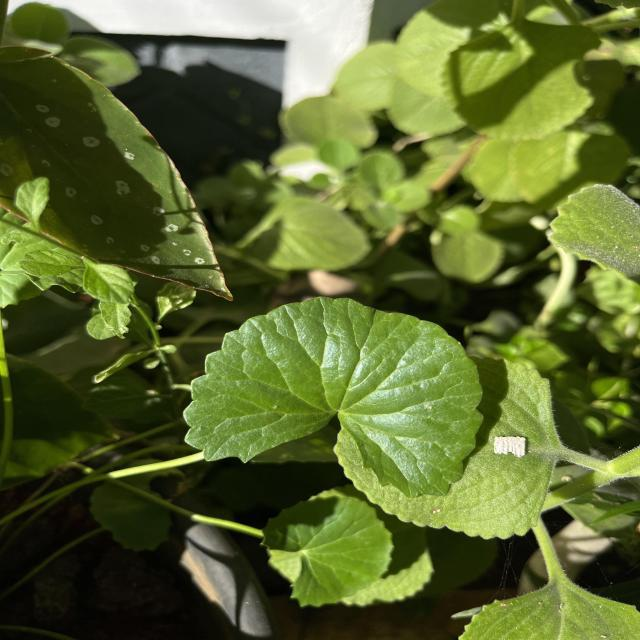Centella asiatica: (179, 292, 486, 501)
